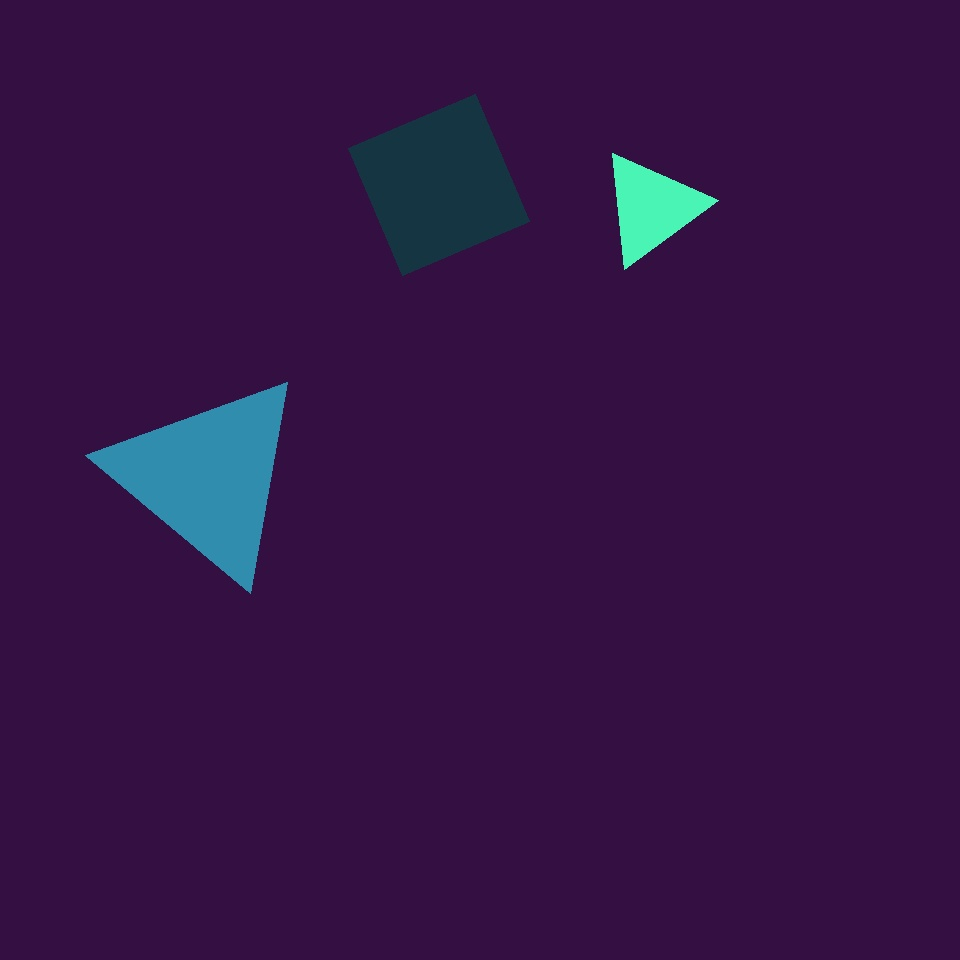circle: (107, 372, 309, 582), (599, 150, 705, 266)
square: (110, 485, 420, 794), (348, 95, 530, 276)
triangle: (174, 450, 268, 544), (464, 135, 558, 229)
